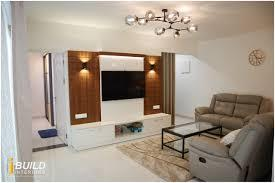TV: (98, 70, 146, 103)
clock: (246, 49, 269, 69)
console: (68, 112, 170, 151)
light: (122, 5, 203, 42), (146, 60, 161, 78), (79, 58, 90, 75)
sofa: (187, 115, 275, 183), (191, 89, 274, 135)
table: (157, 121, 222, 159)
